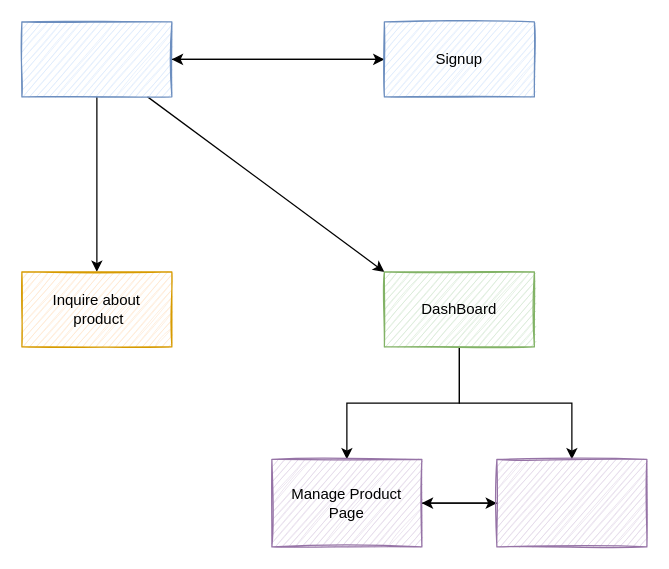
Image size: 669x569. Some labels were removed from this diagram. The shapes that lost their labels are listed below. From the top down, each one's centre as x and y in pixels, then its label:
pixel 96 59: Login
pixel 571 502: View Inquiries Page
